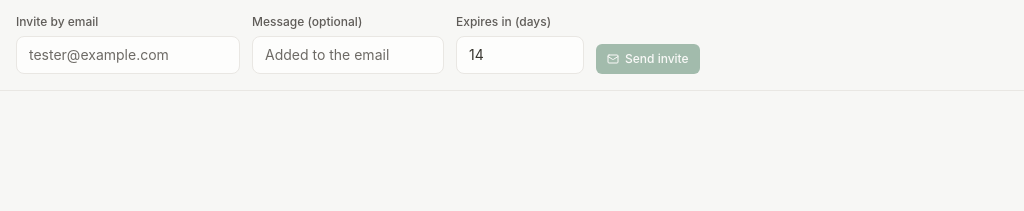
Test: SendInviteForm › still shows the link when the email could not be sent
This screenshot has width=1024, height=211.
Type "sam@example.com" into the field labelled "Invite by email" at {"x": 128, "y": 55}, box [16,36,240,74]
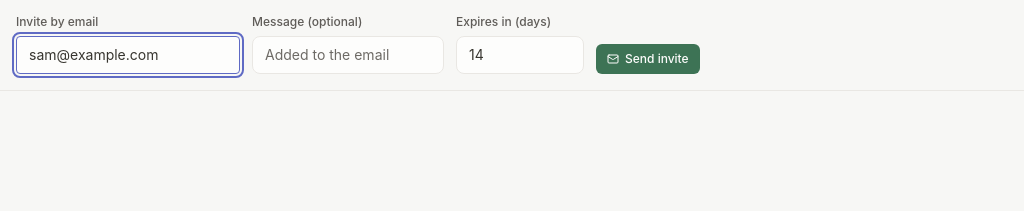
Click the button "Send invite" at {"x": 648, "y": 59}, box [596,44,700,74]
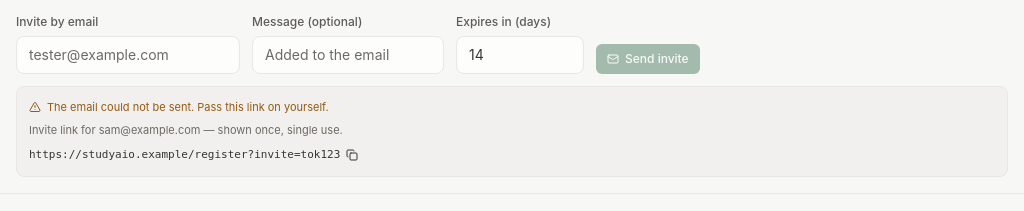
Now the text "The email could not be sent. Pass this link on yourself." is shown, box [29,100,329,114]
Now the text "https://studyaio.example/register?invite=tok123" is shown, box [29,147,340,164]
